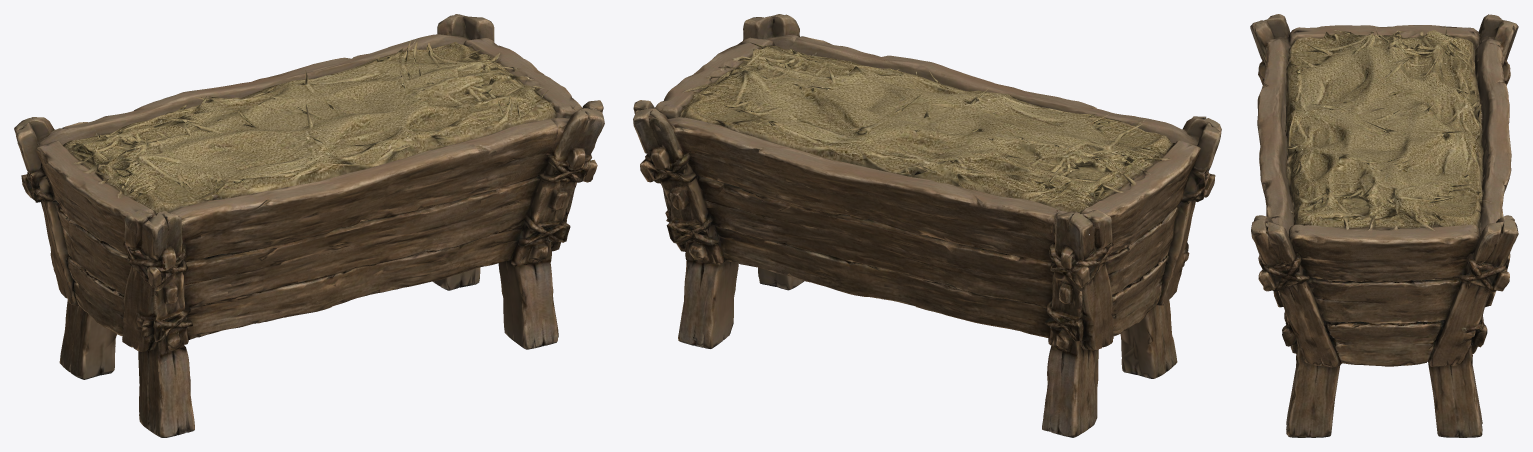
Rendered from camp_hay_trough_game.glb.
The picture shows the model from 3 angles, left to right: view 1: azimuth 30°, elevation 25°; view 2: azimuth 150°, elevation 25°; view 3: azimuth 270°, elevation 25°; orthographic projection. The views are drawn at different scales.
Visible parts, largest first — view 1: tripo_node_07c202c6-9287-4c16-b2b0-f23dcb3438d6; view 2: tripo_node_07c202c6-9287-4c16-b2b0-f23dcb3438d6; view 3: tripo_node_07c202c6-9287-4c16-b2b0-f23dcb3438d6.
Boxes of the visible parts, bbox=[...] form: tripo_node_07c202c6-9287-4c16-b2b0-f23dcb3438d6: bbox=[14, 14, 604, 437]; tripo_node_07c202c6-9287-4c16-b2b0-f23dcb3438d6: bbox=[633, 14, 1221, 437]; tripo_node_07c202c6-9287-4c16-b2b0-f23dcb3438d6: bbox=[1250, 14, 1518, 437].
Size of the model in its own units: 0.9776 by 0.4956 by 0.5054.
1 material, 1 textured.
